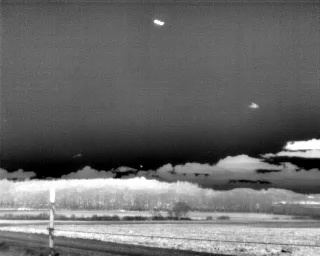DRONE: (151, 15, 168, 30)
